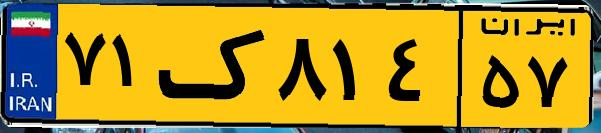1: (330, 28, 385, 110), (110, 28, 158, 98)
4: (385, 28, 445, 110)
5: (475, 38, 525, 113)
7: (57, 26, 110, 100), (525, 38, 570, 115)
8: (270, 28, 330, 110)
ک: (158, 12, 270, 120)
